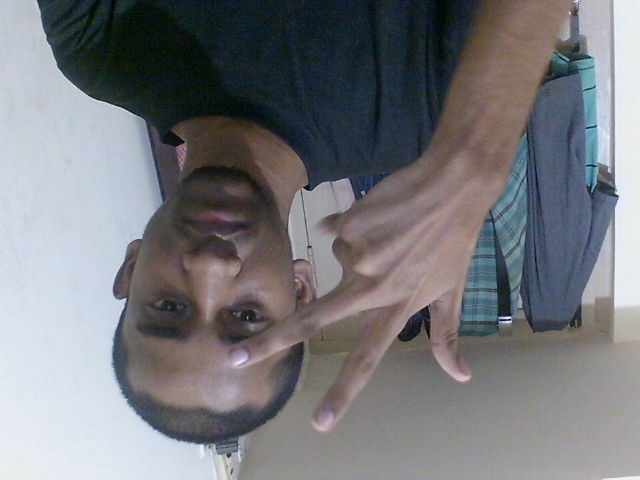hand: (224, 137, 474, 439)
